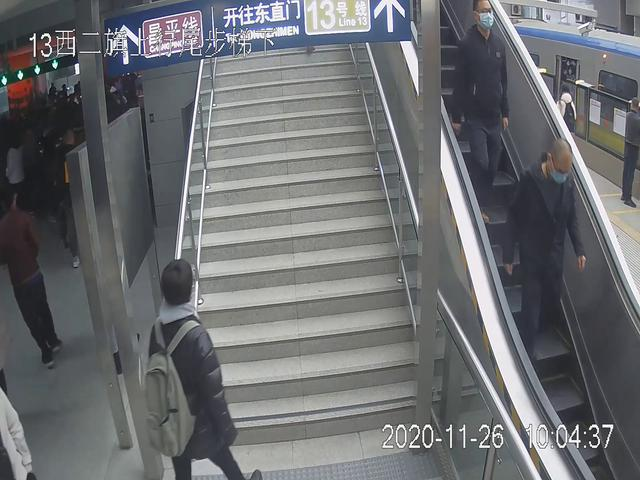person: (138, 254, 265, 480), (503, 133, 593, 367), (452, 1, 513, 225)
